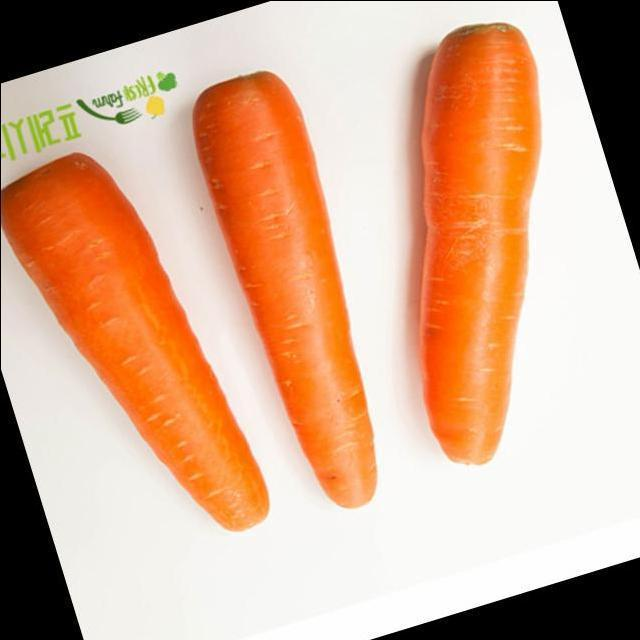carrot: (2, 154, 269, 529), (194, 71, 376, 507), (421, 24, 540, 463)
